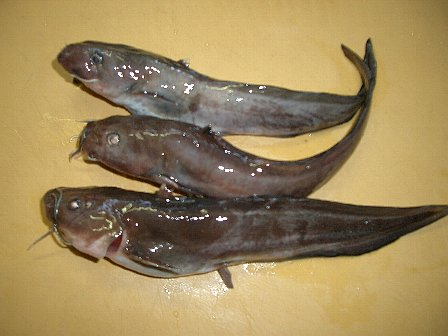gonzui: (32, 173, 448, 280), (48, 39, 387, 140)
